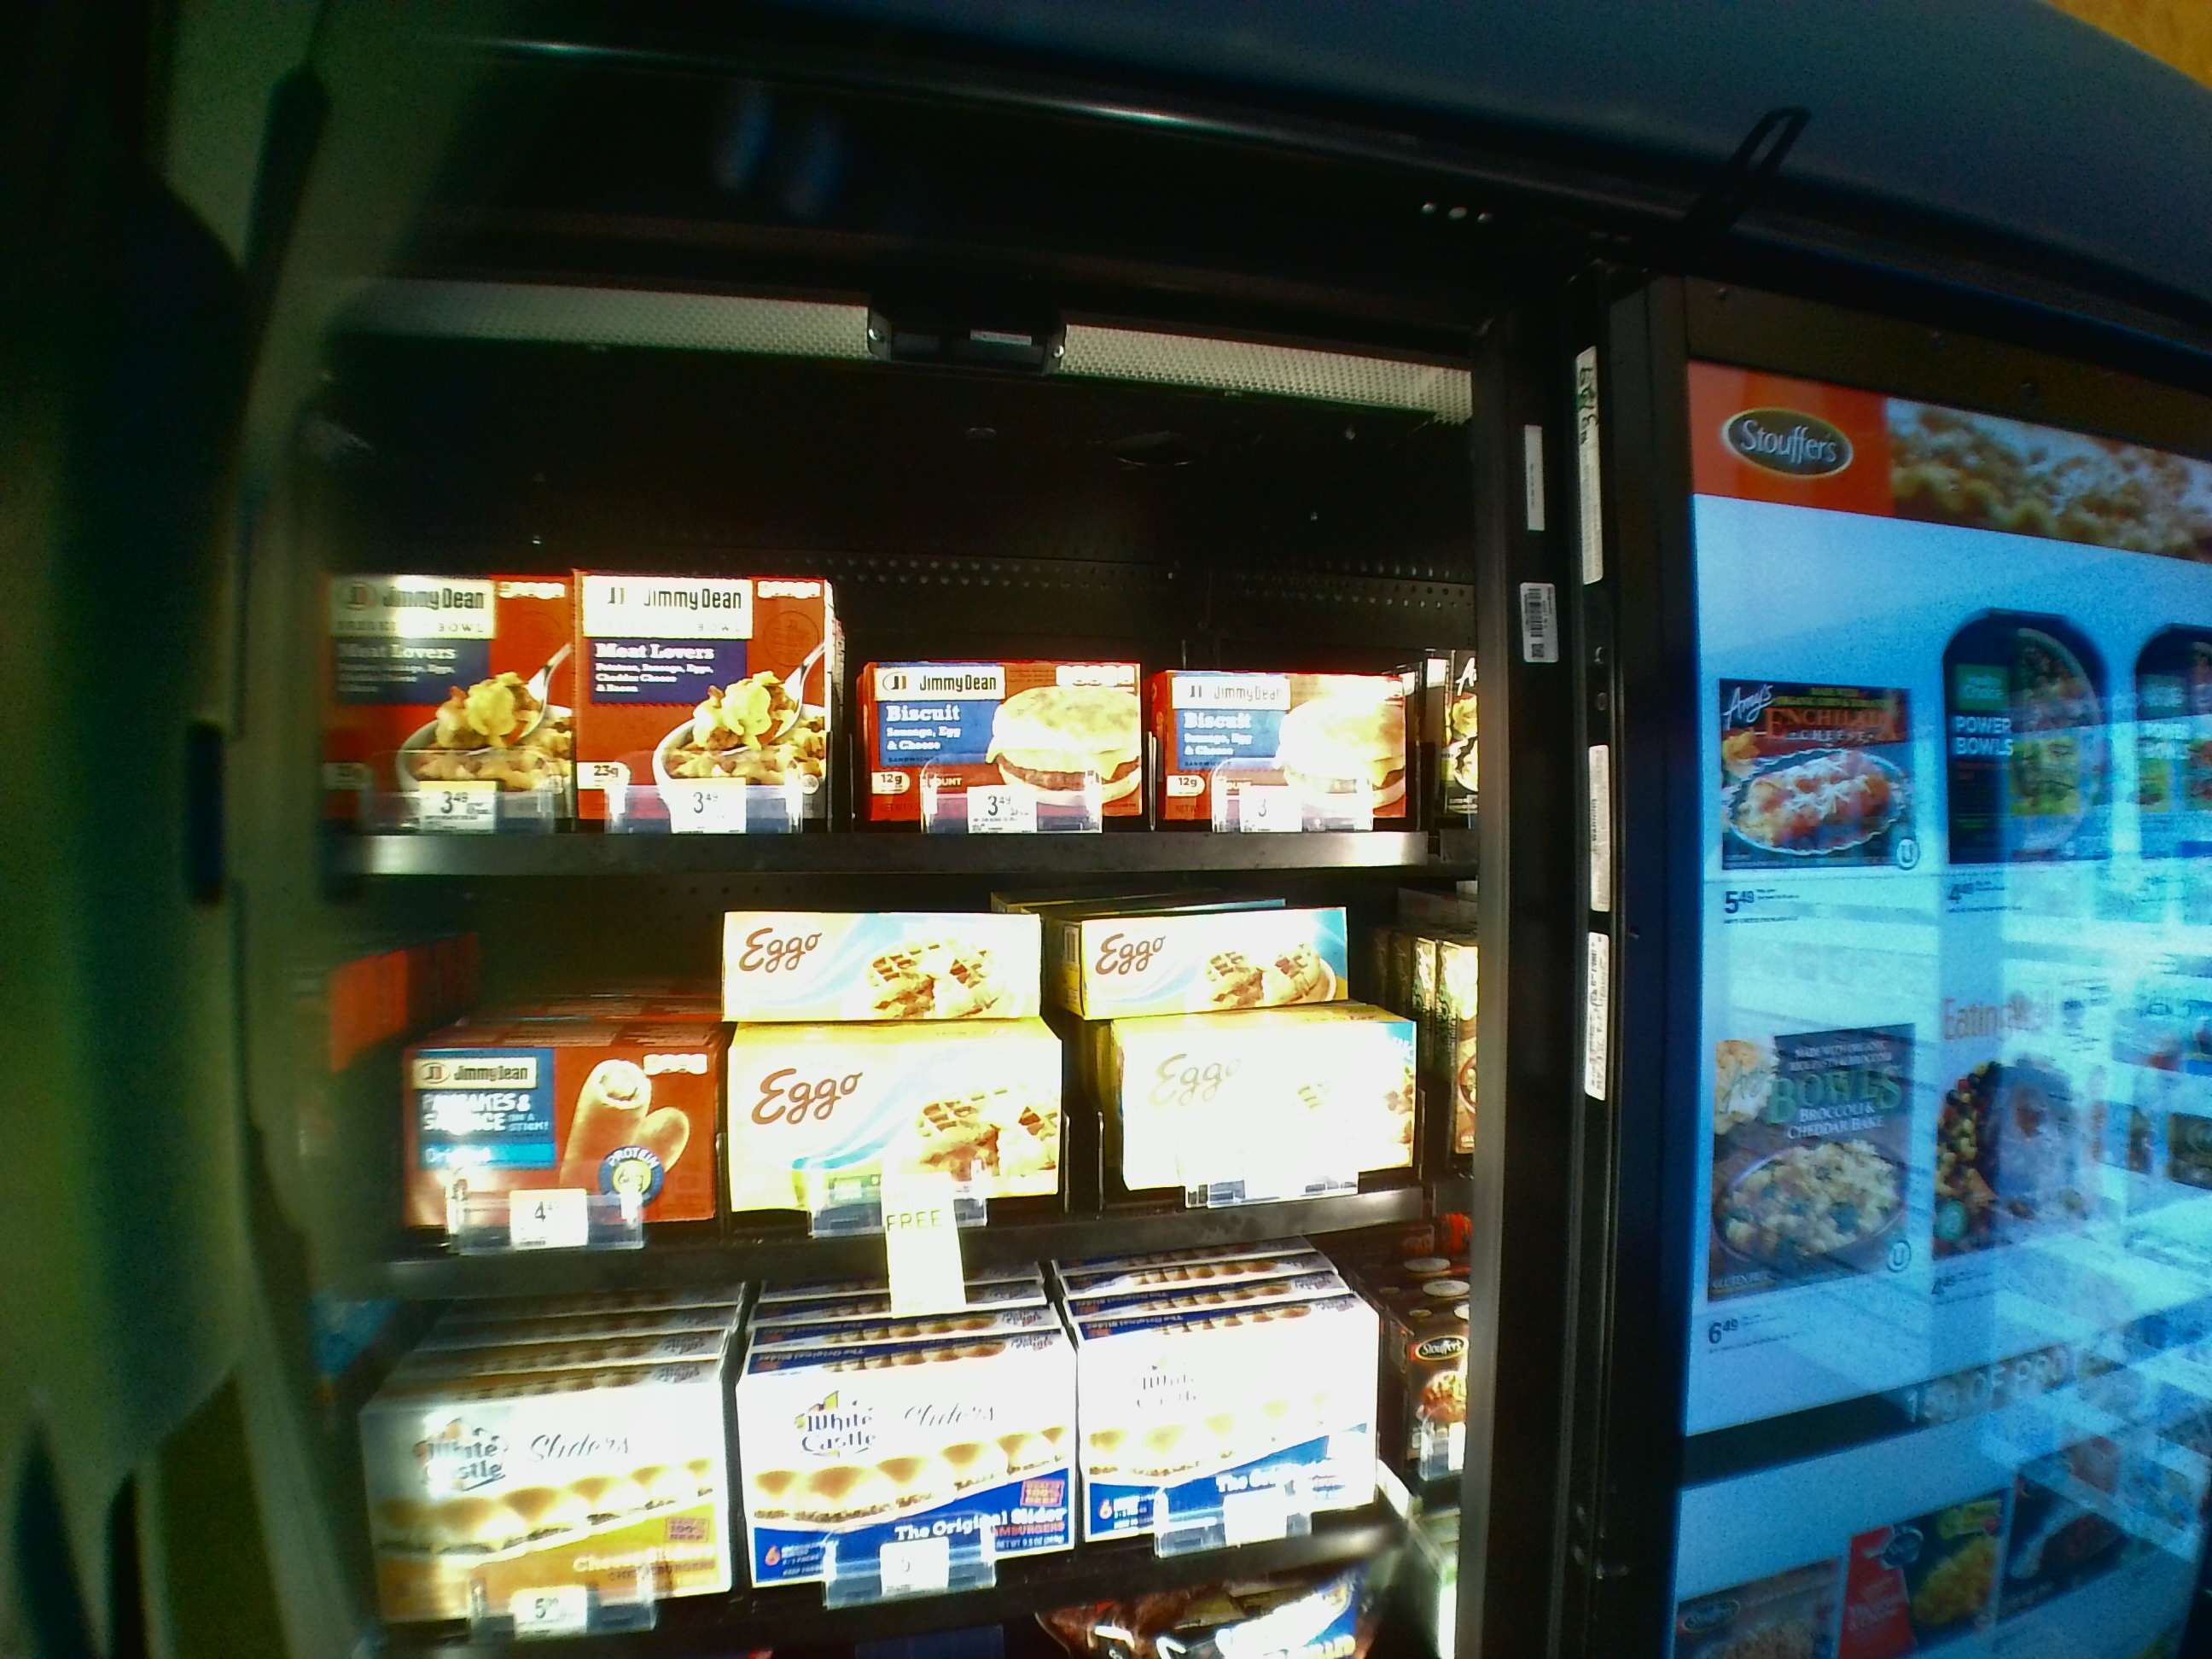shelf: (279, 420, 1460, 870), (268, 884, 1451, 1305)
